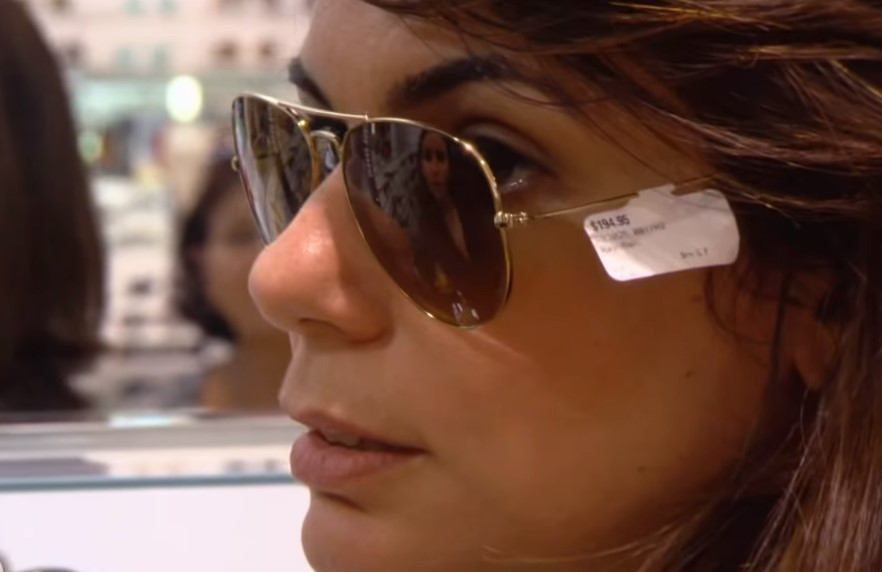face_no_mask: (249, 1, 765, 572)
